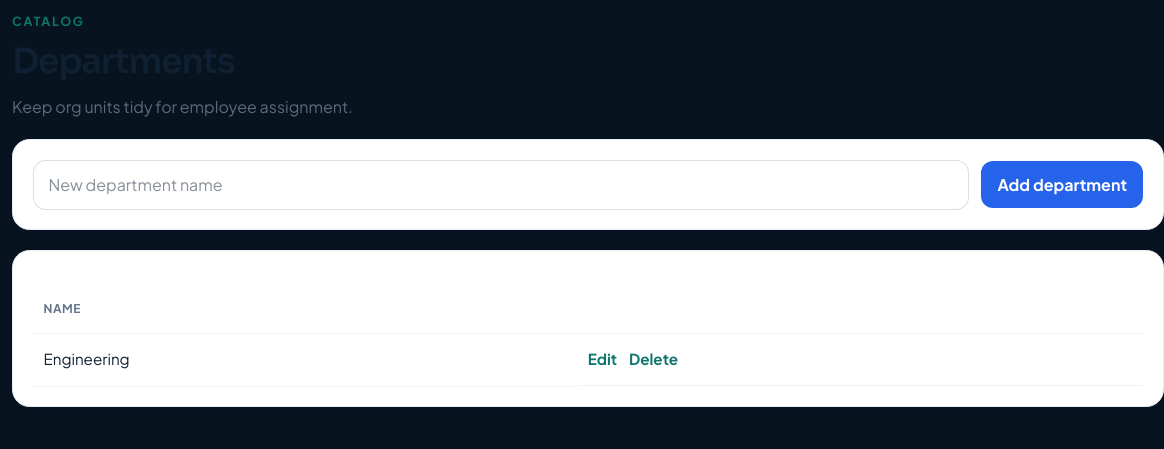
Test: Departments page › updates a department name
Expected: the text "Engineering" is shown, [33, 333, 577, 386]
Click the button "Edit" at coordinates (602, 360), box [588, 348, 617, 371]
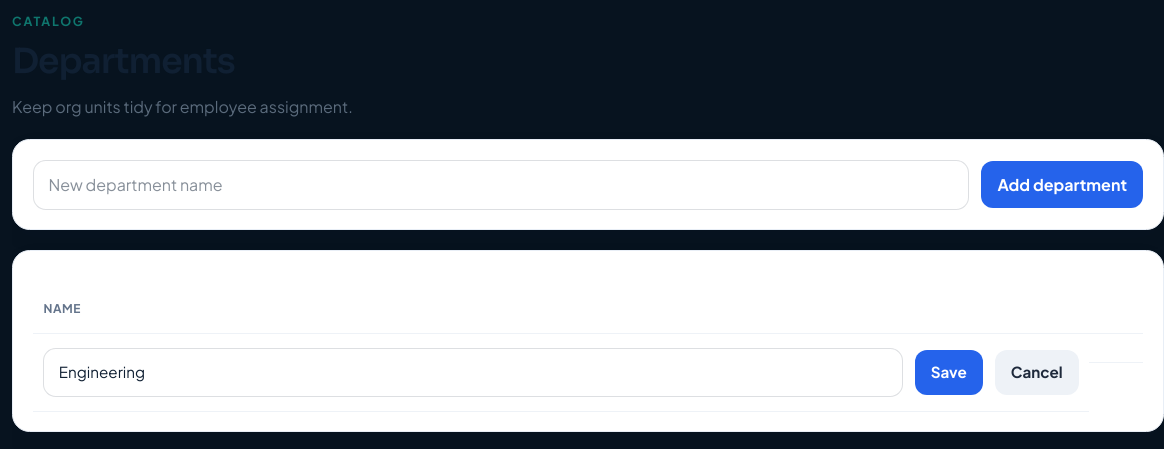
Replace the text in the field named "Department name" with "Platform" at coordinates (473, 372), box [43, 348, 903, 397]
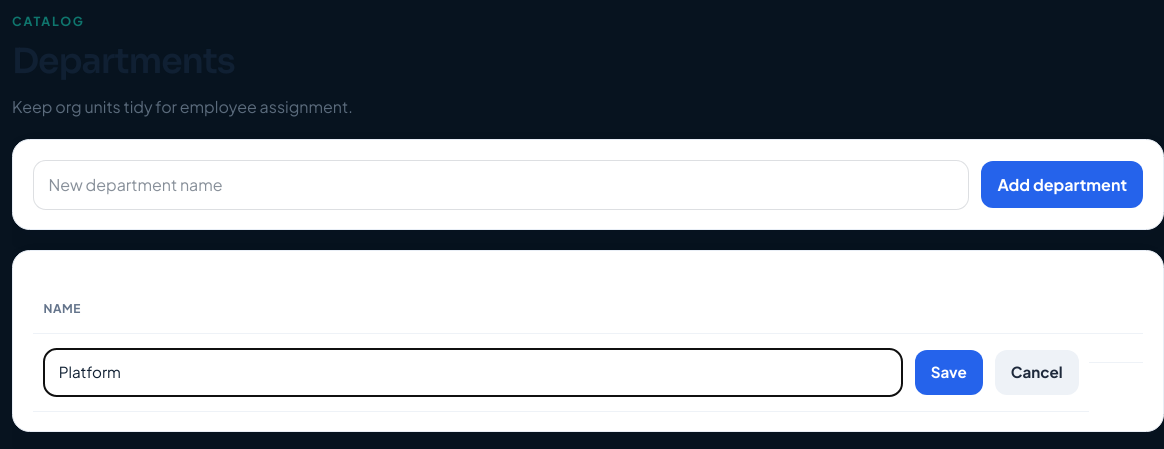
Click the button "Save" at coordinates (949, 372), box [915, 350, 983, 395]
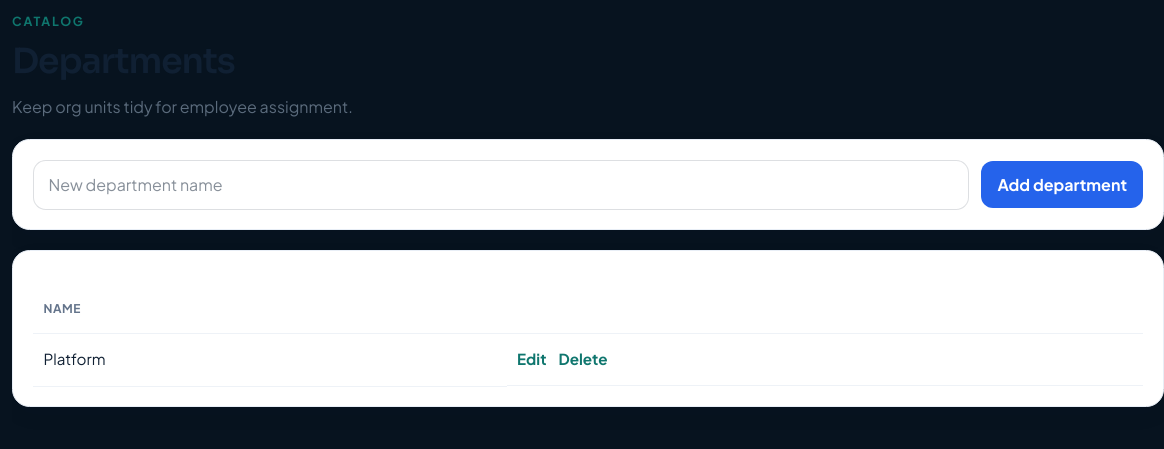
Now the text "Platform" is shown, box [33, 333, 507, 386]
